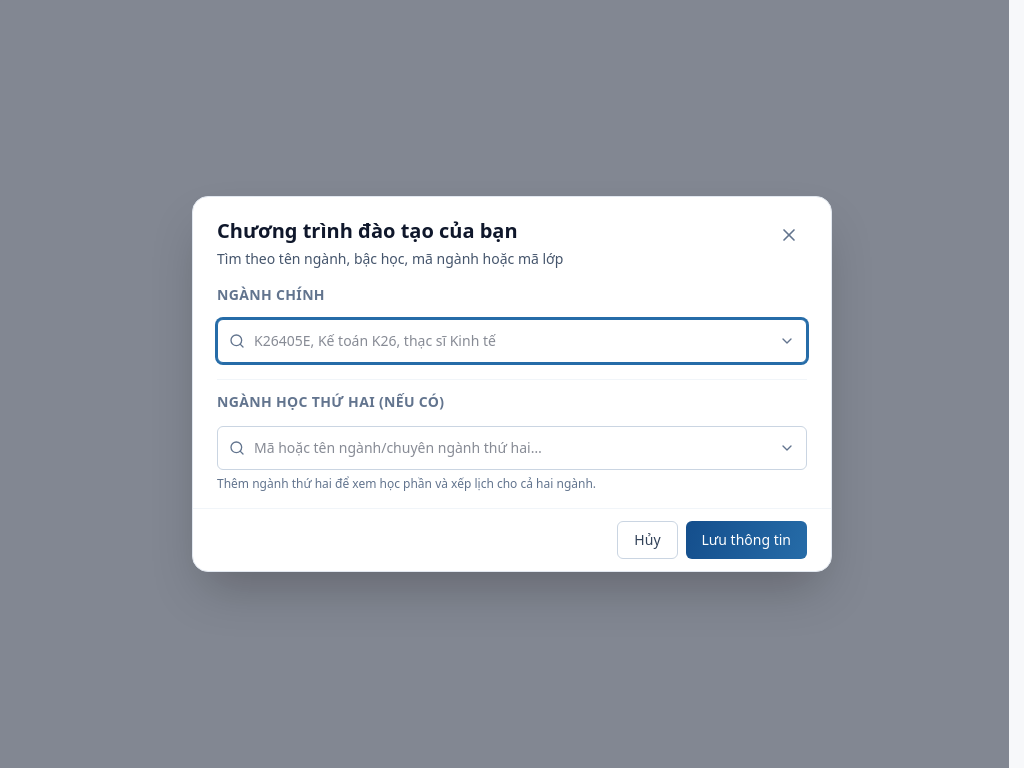
Scenario: ProgramProfileDialog › renders English track description for suffix E1
This screenshot has width=1024, height=768.
Type "K23406E1" into the field labelled "Ngành chính".
click(512, 341); type("K23406E1")  # box [217, 319, 807, 363]
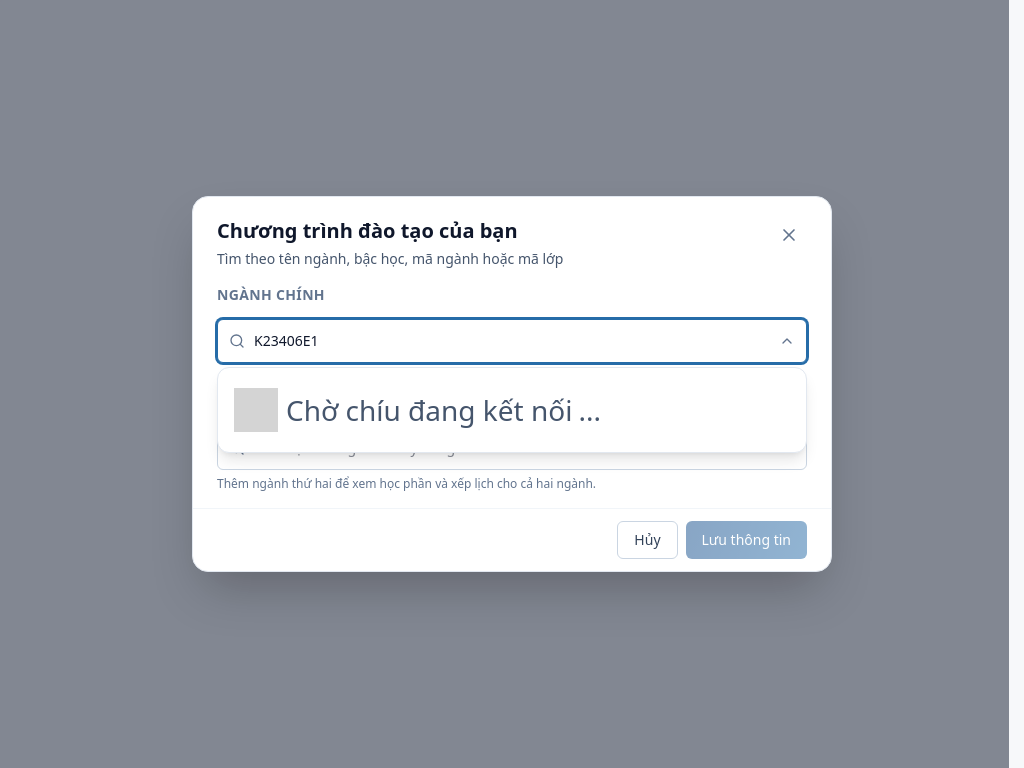
Press Enter in the field labelled "Ngành chính", box [217, 319, 807, 363]
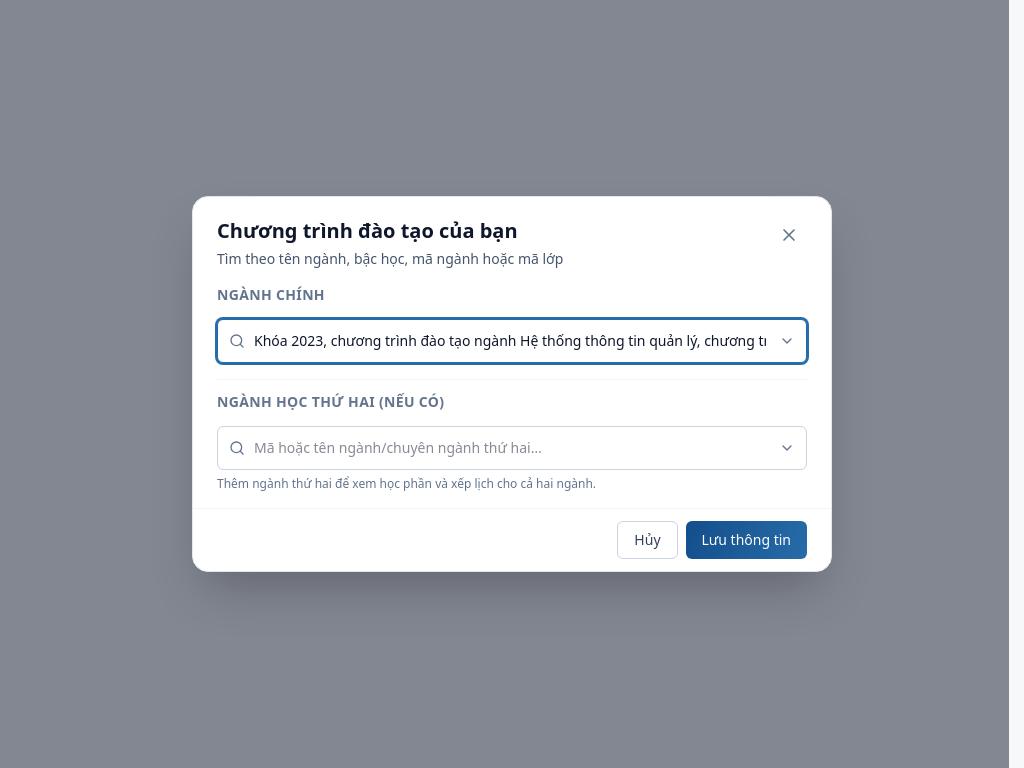
Expected: the field labelled "Ngành chính" holds "Khóa 2023, chương trình đào tạo ngành Hệ thống thông tin quản lý, chương trình tiếng Anh.", [217, 319, 807, 363]
